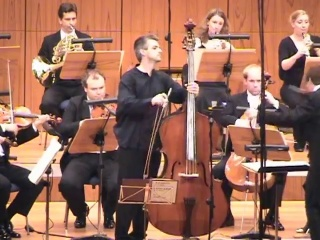person: (43, 29, 116, 215), (265, 4, 320, 240), (54, 63, 122, 231), (118, 32, 196, 175), (33, 4, 103, 150), (225, 60, 279, 145)
